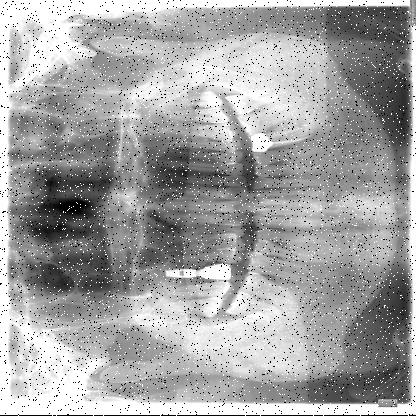Bicon: (162, 264, 200, 284)
